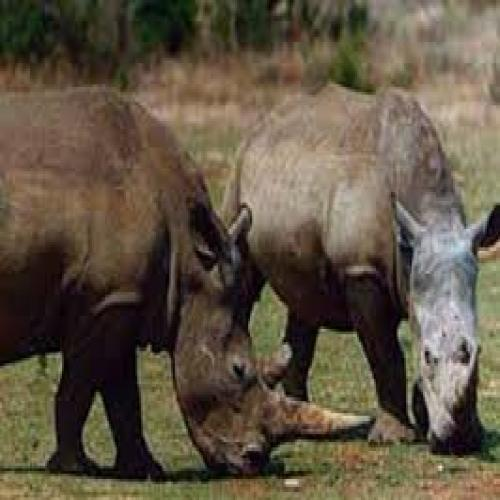rhino-endangered: (0, 83, 376, 474), (216, 79, 500, 453)
